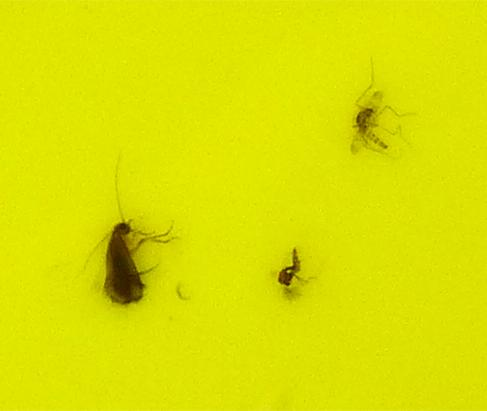Nematocera: (349, 100, 387, 152), (275, 249, 306, 301)
Trichoptera: (100, 218, 168, 311)
